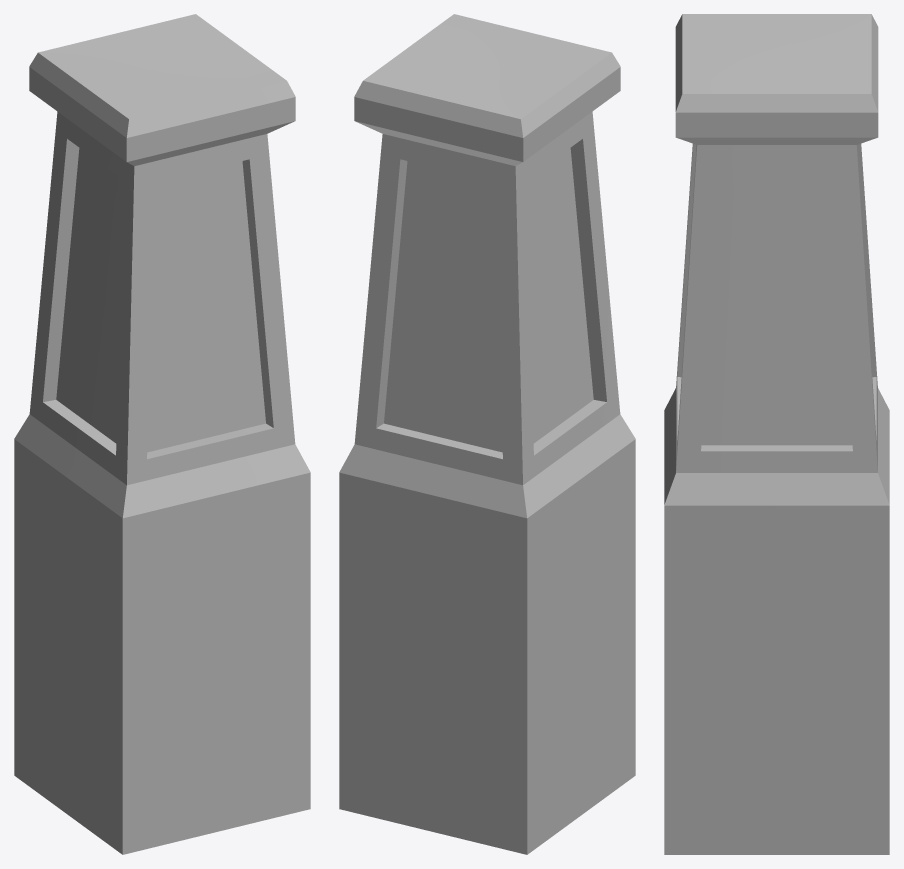
File: Museum_Stairs_End.fbx
3 views of the same model, side by side, from view 1: azimuth 30°, elevation 25°; view 2: azimuth 150°, elevation 25°; view 3: azimuth 270°, elevation 25° (orthographic). The views are drawn at different scales.
Parts seen in each view (by area): view 1: Cube.011; view 2: Cube.011; view 3: Cube.011.
Boxes of the visible parts, x1,y1,x2,y2 form: Cube.011: (14,14,310,854); Cube.011: (339,14,635,854); Cube.011: (664,14,889,854).
Bounding box in the file's own units: 0.5976 × 2.2 × 0.5976.
